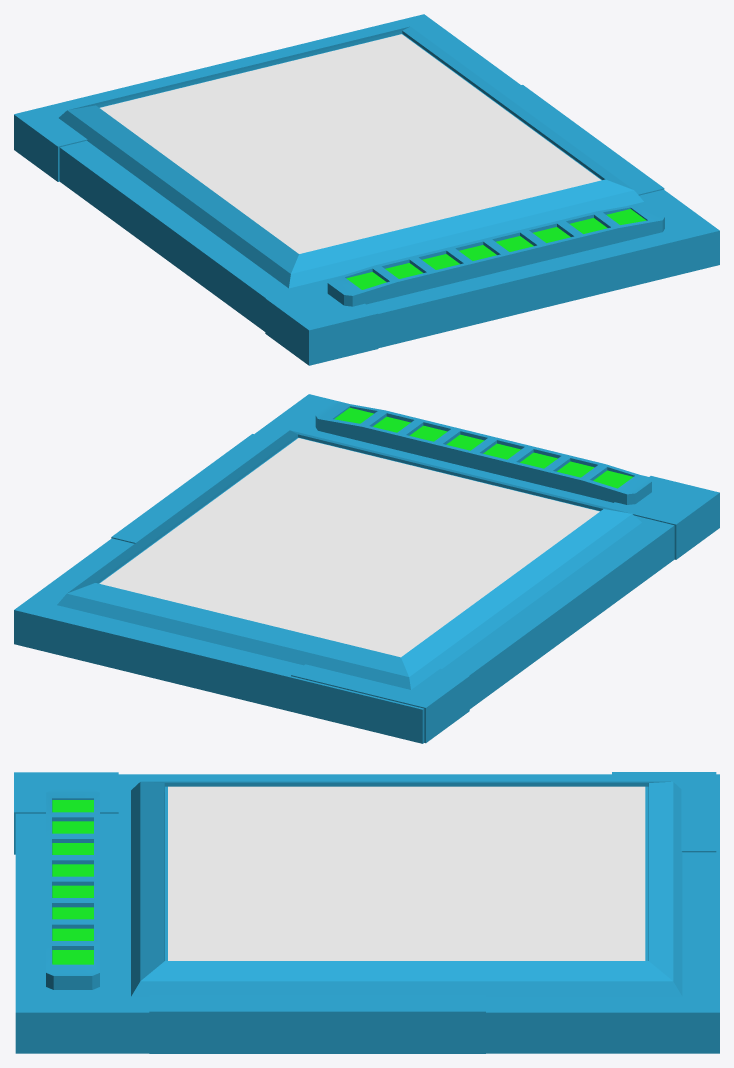
File: Target01.FBX
The picture shows the model from 3 angles, top to bottom: view 1: azimuth 30°, elevation 25°; view 2: azimuth 150°, elevation 25°; view 3: azimuth 270°, elevation 25°; orthographic projection. The views are drawn at different scales.
Visible parts, largest first — view 1: TargetBase, Front Face, Charge Meter; view 2: TargetBase, Front Face, Charge Meter; view 3: TargetBase, Front Face, Charge Meter.
Boxes of the visible parts, x1=… form: TargetBase: x1=14, y1=14, x2=719, y2=365; Front Face: x1=100, y1=34, x2=601, y2=253; Charge Meter: x1=346, y1=209, x2=646, y2=289; TargetBase: x1=14, y1=394, x2=719, y2=743; Front Face: x1=99, y1=438, x2=599, y2=657; Charge Meter: x1=334, y1=407, x2=633, y2=488; TargetBase: x1=14, y1=772, x2=719, y2=1053; Front Face: x1=168, y1=786, x2=645, y2=960; Charge Meter: x1=52, y1=800, x2=93, y2=964.
Size of the model in its own units: 39.6 by 49.32 by 4.8.
